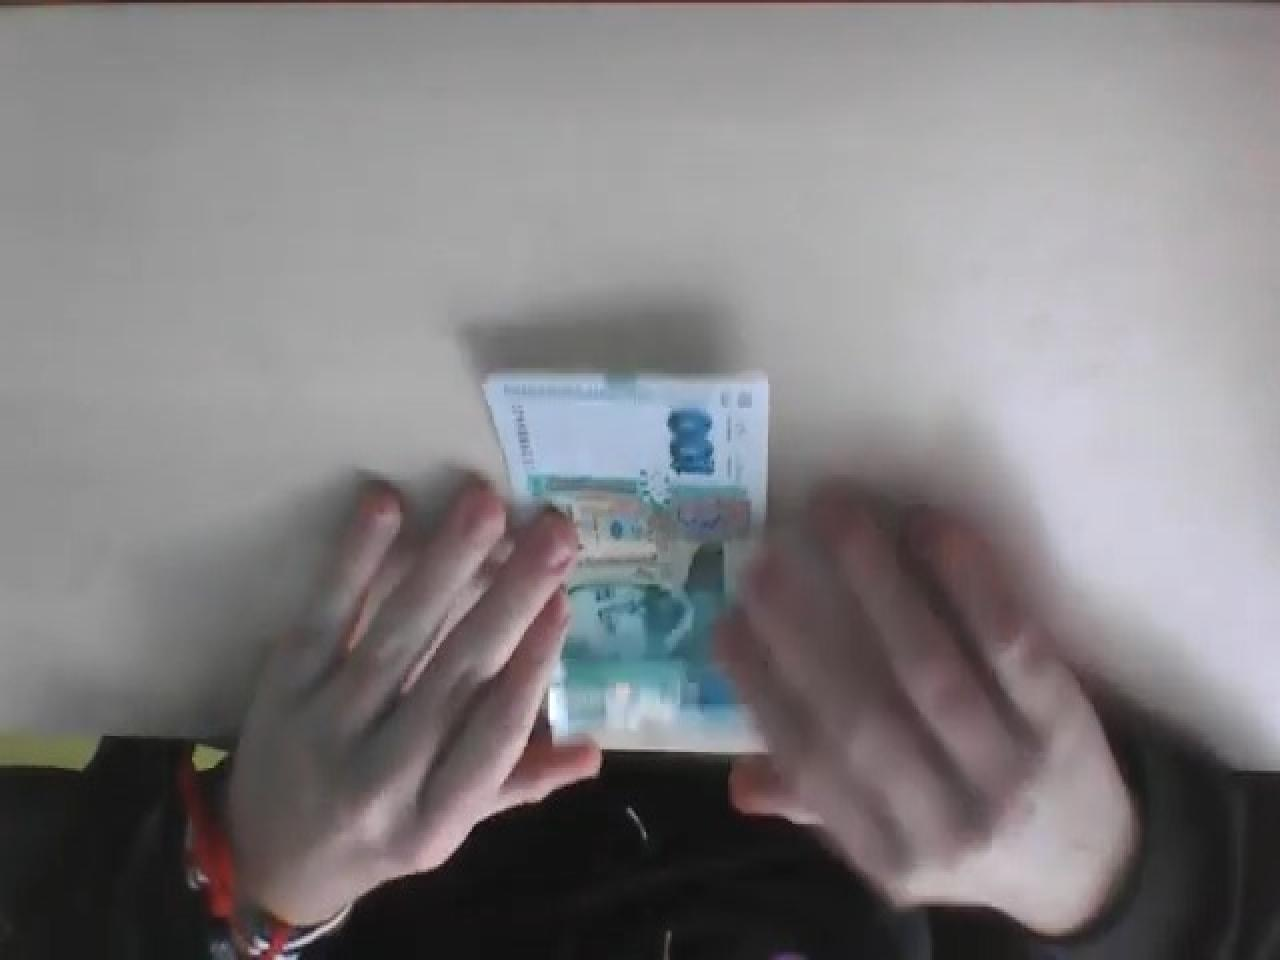100leva: (480, 365, 772, 744)
